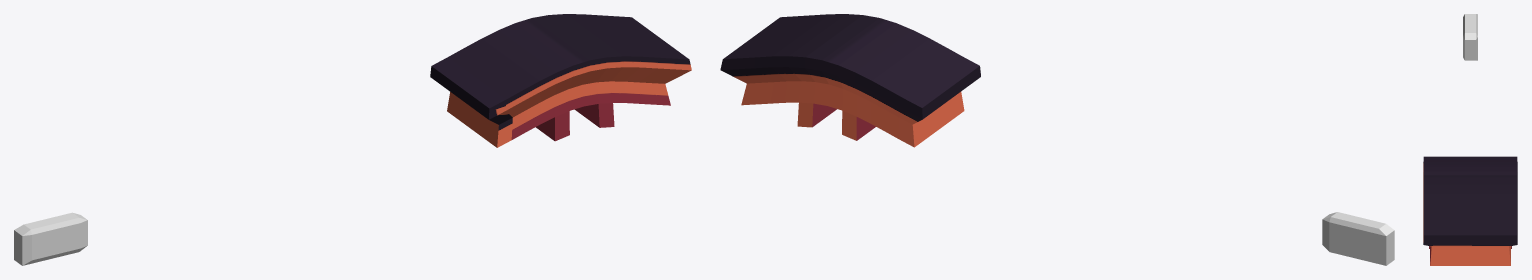
3 views of the same model, side by side, from view 1: azimuth 30°, elevation 25°; view 2: azimuth 150°, elevation 25°; view 3: azimuth 270°, elevation 25° (orthographic). The views are drawn at different scales.
Visible parts, largest first — view 1: Paddle, Brick; view 2: Paddle, Brick; view 3: Paddle, Brick.
Boxes of the visible parts, bbox=[...] form: Paddle: bbox=[430, 14, 691, 147]; Brick: bbox=[14, 212, 87, 265]; Paddle: bbox=[720, 14, 980, 147]; Brick: bbox=[1322, 212, 1394, 265]; Paddle: bbox=[1423, 156, 1517, 265]; Brick: bbox=[1463, 14, 1477, 60].
Size of the model in its own units: 6.13 by 0.8374 by 0.9676.
